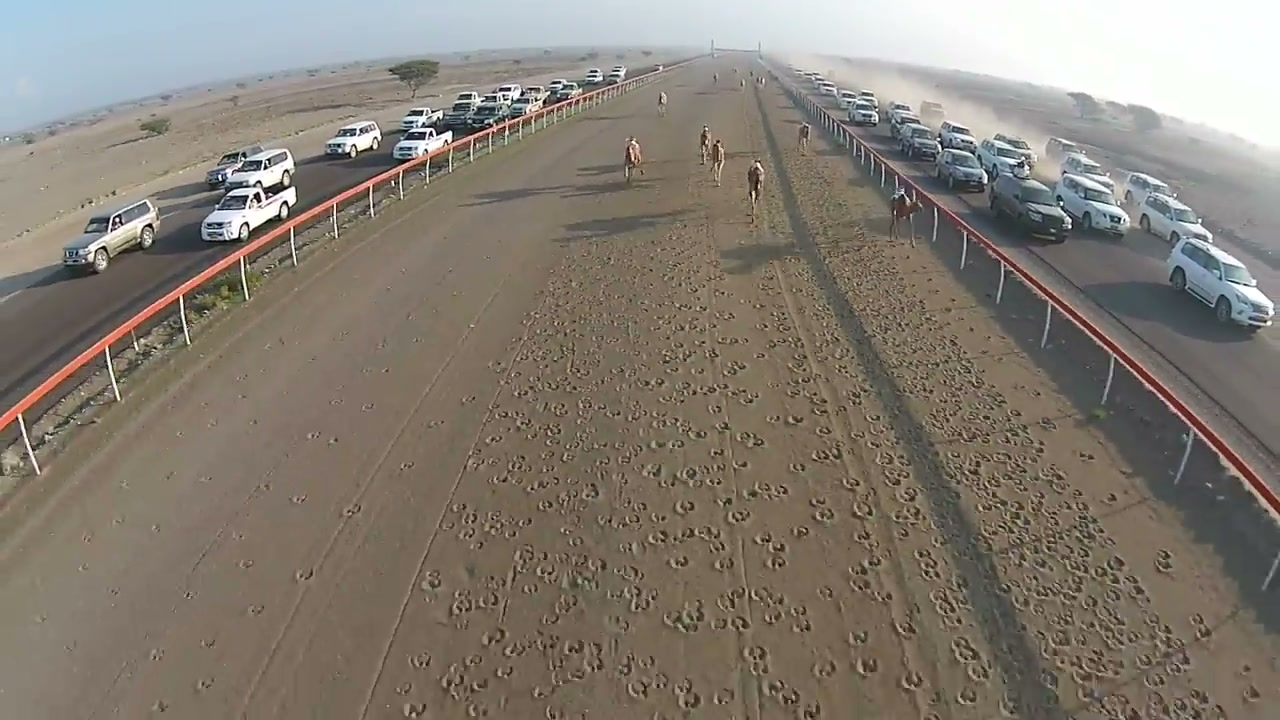animal_foot_print: (371, 106, 1269, 719), (766, 156, 1274, 716), (376, 223, 882, 717)
